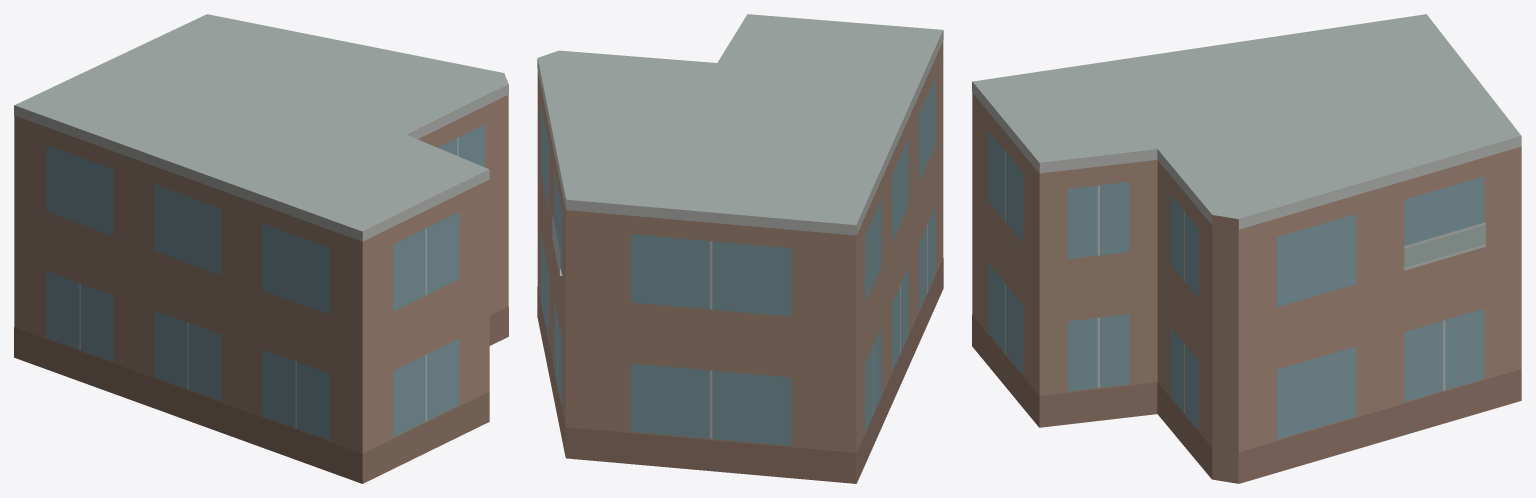
Rendered from survey-upis-32511594.glb.
3 renders of one model, left to right at view 1: azimuth 30°, elevation 25°; view 2: azimuth 150°, elevation 25°; view 3: azimuth 270°, elevation 25°, orthographic. The views are drawn at different scales.
Parts seen in each view (by area): view 1: survey-upis-32511594.tmp; view 2: survey-upis-32511594.tmp; view 3: survey-upis-32511594.tmp.
Boxes of the visible parts, x1,y1,x2,y2 form: survey-upis-32511594.tmp: (14, 14, 508, 483); survey-upis-32511594.tmp: (537, 14, 943, 483); survey-upis-32511594.tmp: (972, 14, 1521, 483).
Size of the model in its own units: 10.15 by 6.1 by 11.48.
